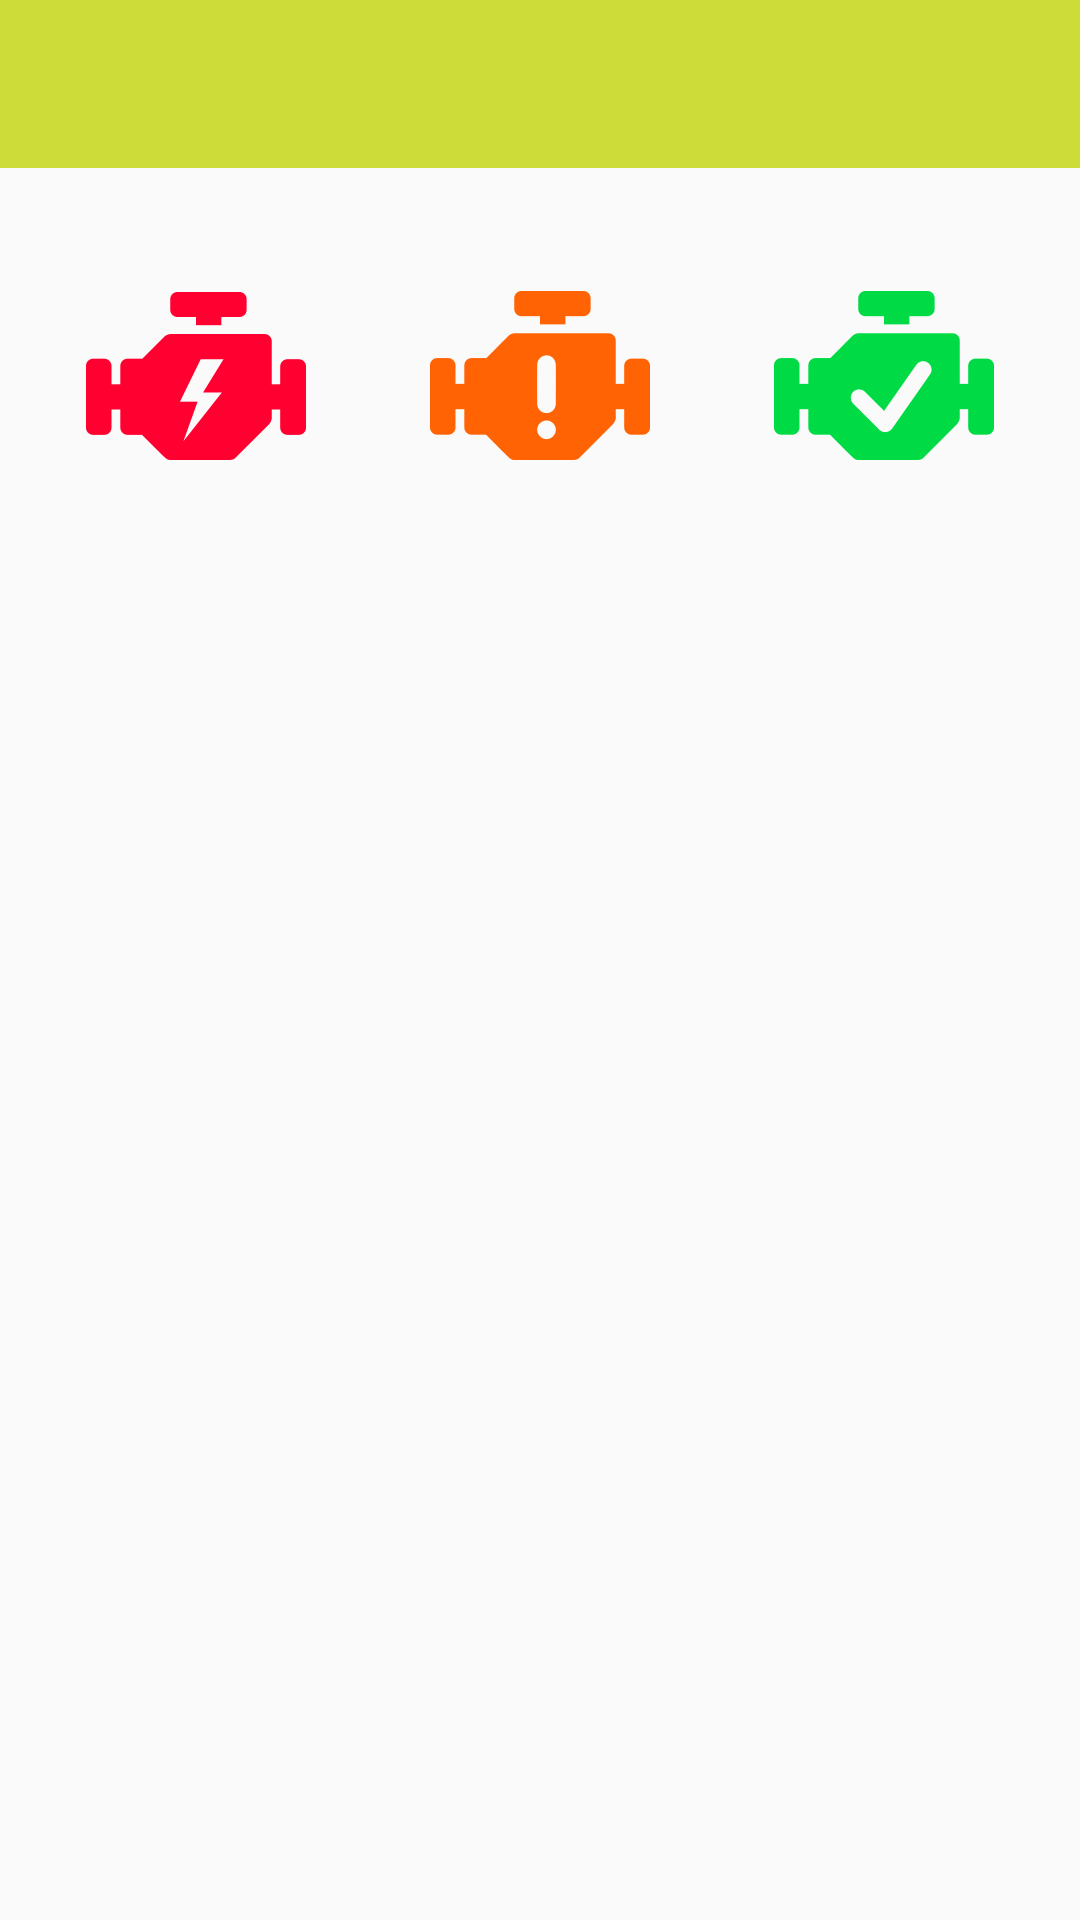

Named icons in this screenshot (1080 x 1920) and their centers, (x=x, y=y):
car health dashboard alert: (x=540, y=375)
car health dashboard fail: (x=196, y=376)
car health dashboard ok: (x=884, y=375)
